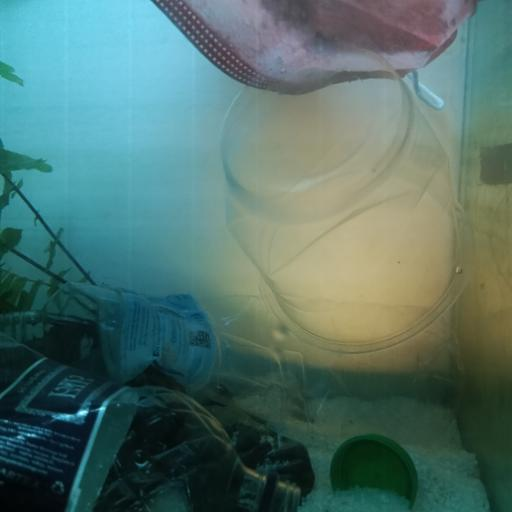bottle_cap: (328, 433, 418, 502)
mask: (155, 0, 490, 94)
plastic_bottle: (0, 280, 462, 452), (0, 330, 306, 511)
plastic_cup: (219, 54, 482, 352)
